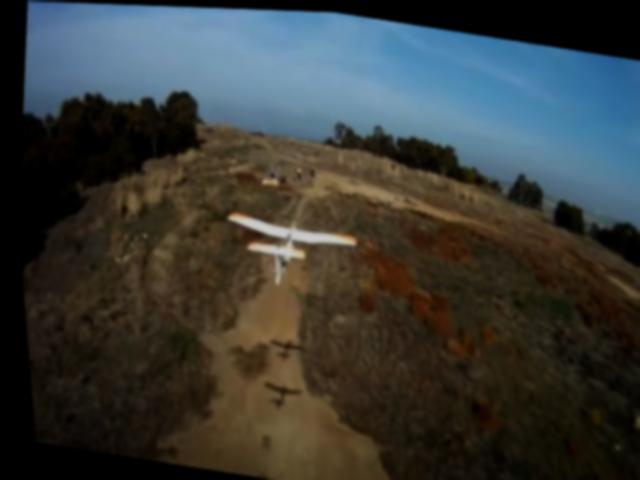uav: (209, 198, 364, 301)
